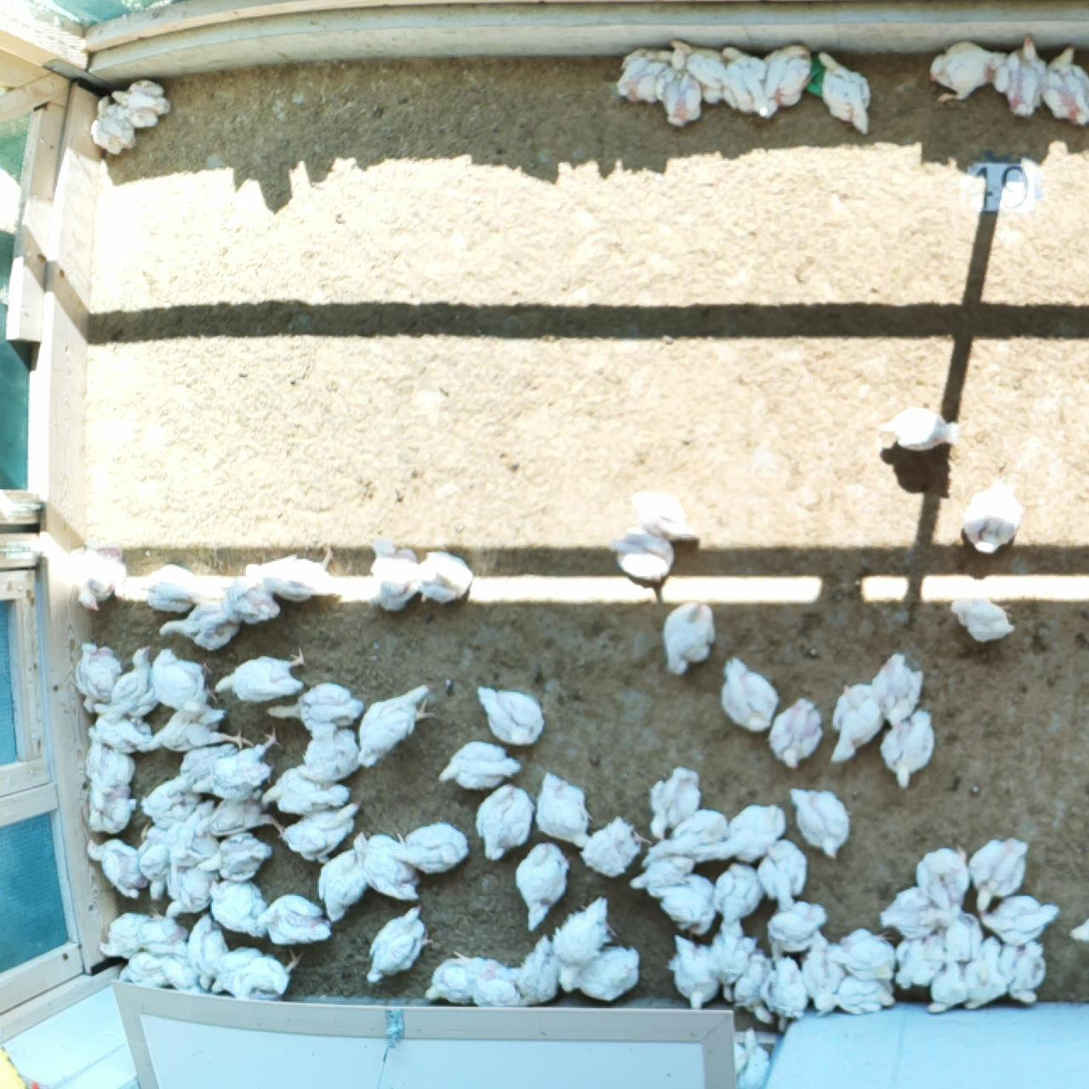chicken: (547, 895, 612, 997), (358, 683, 434, 770), (142, 701, 255, 757), (244, 542, 338, 605), (699, 801, 786, 868), (350, 824, 420, 906), (364, 902, 432, 986), (815, 49, 880, 136), (927, 37, 1007, 107), (510, 838, 569, 932), (214, 646, 307, 705), (282, 797, 363, 864), (194, 787, 288, 844), (642, 807, 730, 867), (787, 783, 853, 863), (879, 706, 941, 790), (361, 534, 426, 614), (827, 677, 886, 765), (970, 834, 1032, 917), (256, 767, 351, 821), (474, 781, 538, 860), (533, 770, 597, 849), (265, 681, 367, 730), (995, 32, 1053, 118), (105, 637, 161, 725), (659, 596, 718, 678), (65, 532, 127, 610), (145, 644, 216, 711), (579, 815, 652, 880), (473, 682, 548, 745), (961, 480, 1023, 556), (717, 656, 778, 733), (646, 871, 719, 935), (439, 737, 522, 793), (157, 598, 243, 652), (229, 947, 307, 1006), (766, 694, 825, 770), (646, 764, 704, 841), (292, 716, 359, 782), (668, 37, 730, 108), (605, 49, 678, 109), (257, 890, 335, 946), (666, 931, 719, 1013), (874, 649, 927, 731), (982, 891, 1058, 948), (877, 883, 953, 940), (798, 929, 846, 1019), (765, 897, 828, 965), (207, 569, 283, 625), (876, 403, 961, 453), (195, 830, 275, 883), (576, 945, 643, 1007), (761, 39, 811, 122), (317, 846, 370, 924), (168, 796, 220, 874), (761, 952, 810, 1034), (918, 840, 970, 917), (711, 918, 757, 1005), (959, 935, 1009, 1015), (205, 877, 268, 940), (457, 950, 524, 1009), (102, 77, 175, 131), (606, 525, 675, 582), (627, 488, 698, 543), (758, 839, 811, 912), (86, 834, 146, 898), (719, 41, 767, 121), (394, 822, 470, 872), (75, 640, 125, 715), (892, 924, 946, 992), (998, 936, 1051, 1005), (949, 593, 1018, 646), (412, 549, 475, 607), (1045, 43, 1089, 126), (181, 909, 223, 994), (514, 932, 560, 1008), (733, 952, 780, 1026), (664, 46, 705, 130), (130, 822, 173, 902), (823, 974, 899, 1018), (137, 774, 202, 825), (169, 738, 236, 785), (837, 927, 894, 981), (83, 706, 147, 754), (716, 860, 763, 925), (139, 562, 197, 614), (87, 780, 145, 832), (78, 738, 137, 789), (135, 907, 195, 957), (87, 93, 136, 154), (209, 942, 264, 995), (143, 950, 202, 998), (163, 861, 214, 915), (731, 1026, 774, 1089), (924, 957, 967, 1019), (629, 854, 694, 894), (421, 955, 472, 1005), (100, 909, 149, 961), (941, 906, 981, 966), (115, 947, 168, 990)
